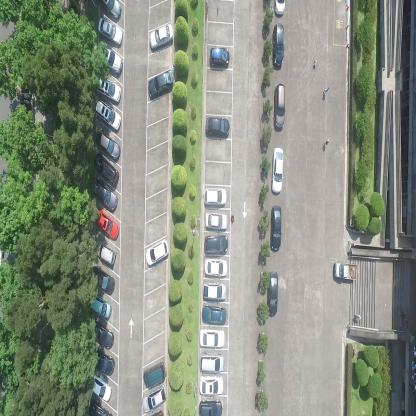car: (92, 152, 119, 187), (91, 177, 117, 212), (93, 207, 120, 240), (147, 68, 174, 100), (95, 99, 121, 131), (95, 129, 121, 161), (98, 44, 123, 76), (149, 20, 173, 52), (97, 16, 123, 45), (95, 74, 121, 103), (91, 266, 115, 296), (145, 238, 169, 267), (90, 349, 114, 377), (91, 321, 114, 350), (90, 372, 112, 402), (142, 384, 167, 410), (143, 361, 166, 388), (333, 259, 357, 284), (272, 146, 284, 195), (272, 21, 284, 69), (270, 204, 282, 252), (205, 116, 230, 139), (204, 233, 229, 256), (89, 295, 112, 320), (201, 304, 227, 326), (198, 374, 224, 396), (94, 242, 116, 268), (274, 82, 285, 132), (199, 352, 225, 373), (199, 328, 225, 348), (267, 271, 278, 317), (204, 257, 228, 278), (202, 282, 227, 302), (209, 45, 230, 68), (204, 212, 228, 231), (204, 186, 226, 206), (198, 398, 222, 416), (100, 0, 122, 19), (88, 400, 114, 415), (273, 0, 286, 18)
